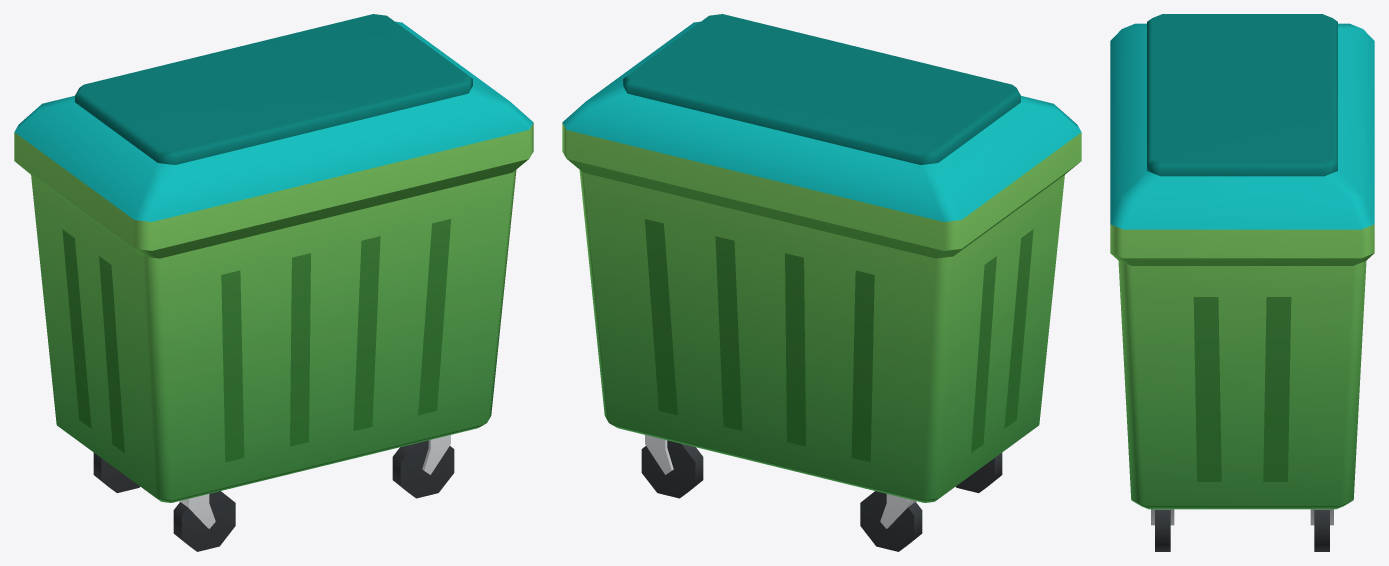
Rendered from Trash_Can_07.glb.
The picture shows the model from 3 angles, left to right: view 1: azimuth 30°, elevation 25°; view 2: azimuth 150°, elevation 25°; view 3: azimuth 270°, elevation 25°; orthographic projection.
Parts seen in each view (by area): view 1: Trash_Can_07; view 2: Trash_Can_07; view 3: Trash_Can_07.
Boxes of the visible parts, <box> form: Trash_Can_07: <box>14,14,533,551</box>; Trash_Can_07: <box>562,14,1081,551</box>; Trash_Can_07: <box>1110,14,1374,551</box>.
Size of the model in its own units: 1.9 by 1.85 by 1.1.
Materials: 1 (1 with a texture image).
